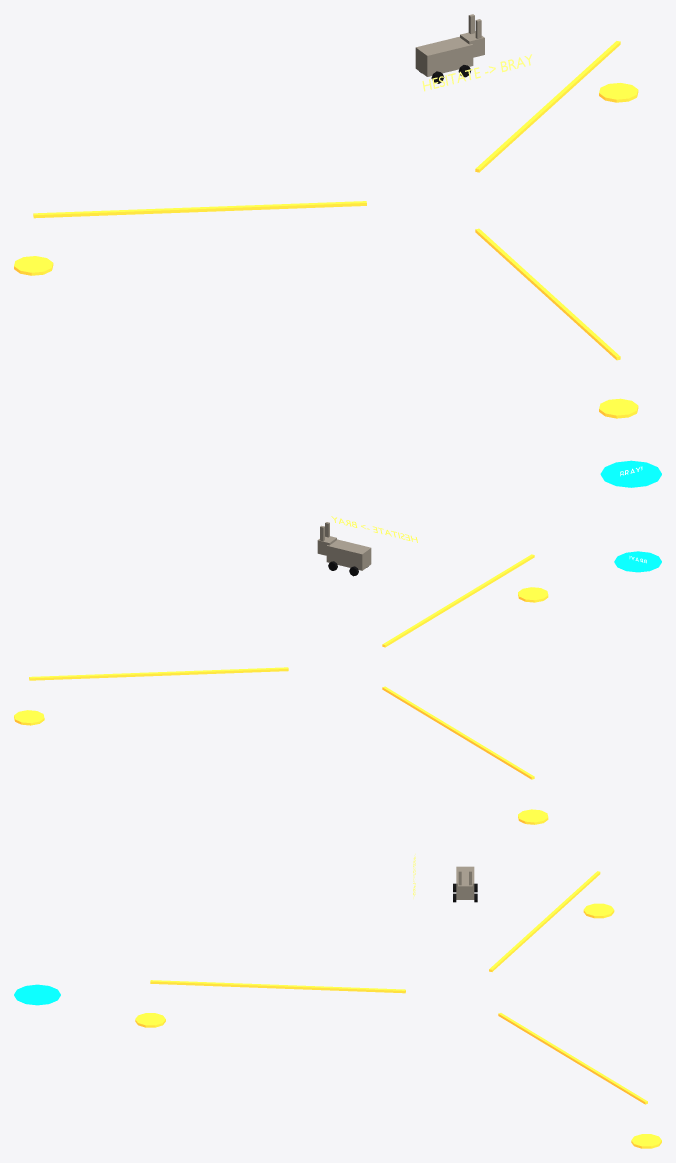
Rendered from donkey_hazard.glb.
3 renders of one model, top to bottom at view 1: azimuth 30°, elevation 25°; view 2: azimuth 150°, elevation 25°; view 3: azimuth 270°, elevation 25°, orthographic. The views are drawn at different scales.
Parts seen in each view (by area): view 1: DONKEY_RANDOM_ROLL_PATH_option_1, MESHY_PROXY_donkey_body_Buridans_Ass, MESHY_PROXY_donkey_impact_marker, DONKEY_RANDOM_ROLL_PATH_option_2, DONKEY_RANDOM_ROLL_PATH_option_0; view 2: DONKEY_RANDOM_ROLL_PATH_option_0, MESHY_PROXY_donkey_body_Buridans_Ass, DONKEY_RANDOM_ROLL_PATH_option_2, DONKEY_RANDOM_ROLL_PATH_option_1, MESHY_PROXY_donkey_impact_marker; view 3: DONKEY_RANDOM_ROLL_PATH_option_2, DONKEY_RANDOM_ROLL_PATH_option_0, MESHY_PROXY_donkey_impact_marker, DONKEY_RANDOM_ROLL_PATH_option_1.
Part boxes in pixels (<box>): DONKEY_RANDOM_ROLL_PATH_option_1: <box>33,201,366,218</box>; MESHY_PROXY_donkey_body_Buridans_Ass: <box>415,36,473,76</box>; MESHY_PROXY_donkey_impact_marker: <box>600,460,661,487</box>; DONKEY_RANDOM_ROLL_PATH_option_2: <box>475,228,620,360</box>; DONKEY_RANDOM_ROLL_PATH_option_0: <box>475,41,620,172</box>; DONKEY_RANDOM_ROLL_PATH_option_0: <box>29,667,288,680</box>; MESHY_PROXY_donkey_body_Buridans_Ass: <box>326,539,371,570</box>; DONKEY_RANDOM_ROLL_PATH_option_2: <box>382,554,534,647</box>; DONKEY_RANDOM_ROLL_PATH_option_1: <box>382,686,534,779</box>; MESHY_PROXY_donkey_impact_marker: <box>614,551,661,572</box>; DONKEY_RANDOM_ROLL_PATH_option_2: <box>150,980,405,993</box>; DONKEY_RANDOM_ROLL_PATH_option_0: <box>498,1013,647,1104</box>; MESHY_PROXY_donkey_impact_marker: <box>14,984,60,1005</box>; DONKEY_RANDOM_ROLL_PATH_option_1: <box>489,871,600,971</box>.
Bounding box in the file's own units: 13.45 × 4.49 × 15.17.
